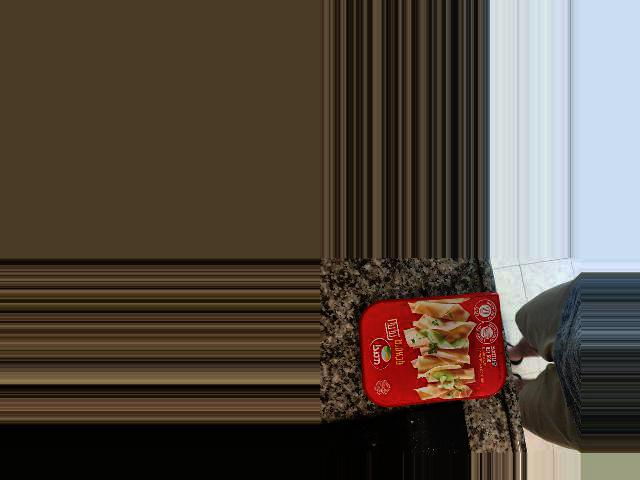cheese: (376, 306, 535, 427)
